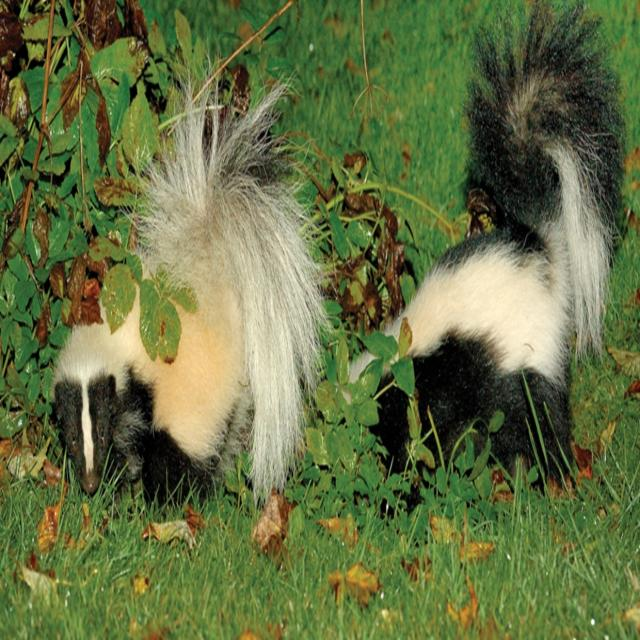Skunk: (336, 10, 625, 496)
